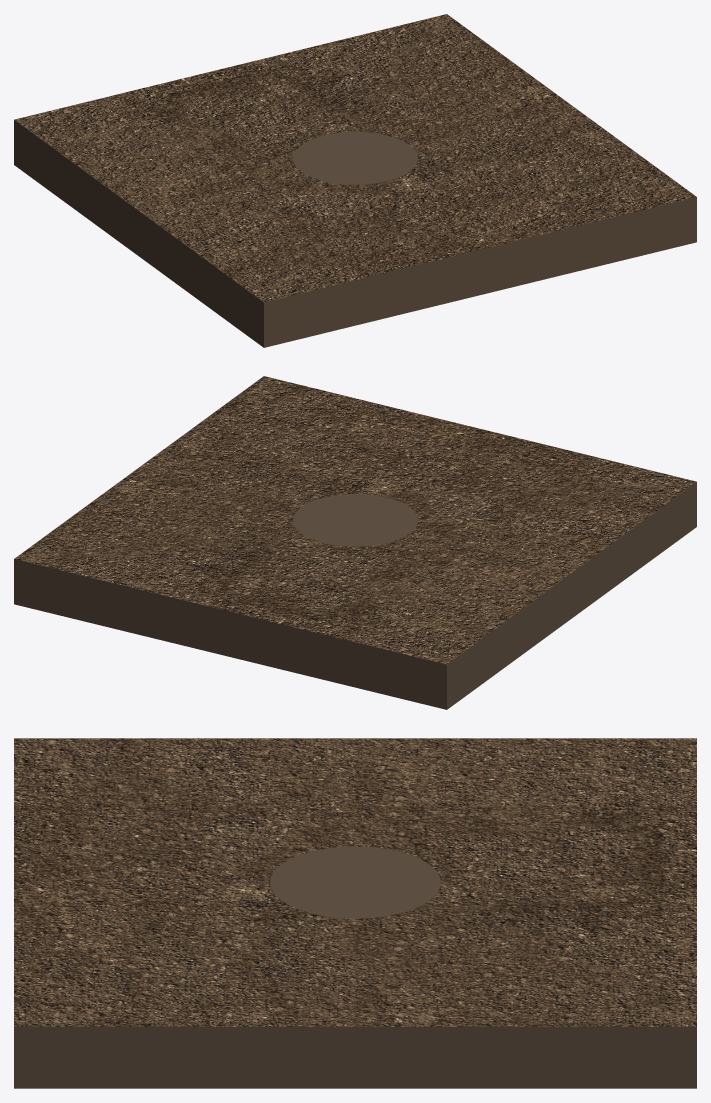
Rendered from platform_hole.fbx.
The picture shows the model from 3 angles, top to bottom: view 1: azimuth 30°, elevation 25°; view 2: azimuth 150°, elevation 25°; view 3: azimuth 270°, elevation 25°; orthographic projection. The views are drawn at different scales.
Parts seen in each view (by area): view 1: Cube; view 2: Cube; view 3: Cube.
Boxes of the visible parts, x1,y1,x2,y2 form: Cube: [14, 14, 696, 347]; Cube: [14, 376, 696, 709]; Cube: [14, 738, 696, 1088].
Size of the model in its own units: 400 by 40 by 400.
